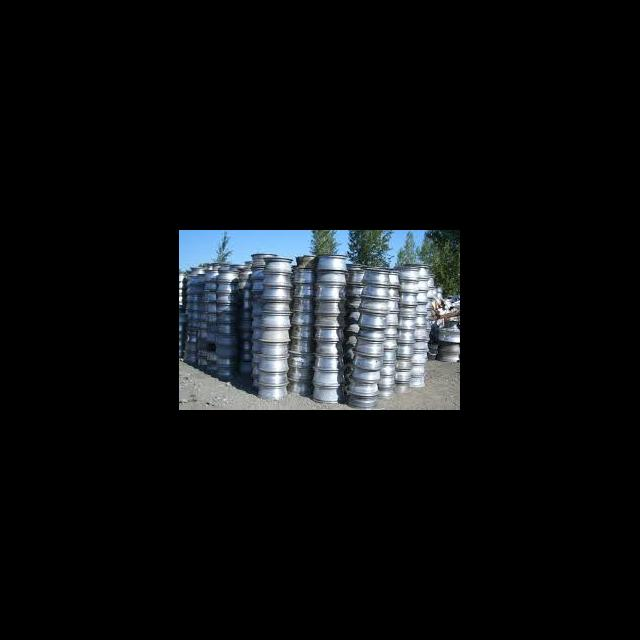metal: (312, 246, 348, 277), (254, 305, 296, 331), (350, 344, 390, 371), (256, 348, 294, 375), (354, 287, 392, 314), (280, 357, 314, 387), (252, 322, 294, 346), (252, 378, 292, 403), (310, 379, 348, 405), (312, 272, 348, 299), (348, 370, 388, 394), (312, 328, 346, 354), (356, 317, 390, 343), (256, 281, 298, 302), (359, 263, 394, 287), (258, 265, 296, 287), (310, 301, 348, 323), (286, 332, 318, 358), (260, 252, 296, 275), (212, 281, 244, 306), (309, 358, 346, 379), (210, 303, 238, 328), (394, 335, 418, 363), (292, 281, 318, 306), (436, 321, 459, 348), (288, 264, 316, 286), (400, 260, 422, 287), (394, 366, 419, 389), (210, 327, 238, 346), (212, 351, 240, 370), (217, 264, 240, 287), (396, 310, 418, 334), (288, 311, 312, 330), (400, 291, 420, 307)
